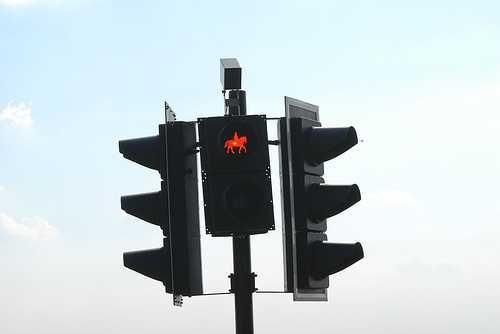red: (198, 114, 275, 231), (200, 117, 265, 169)
